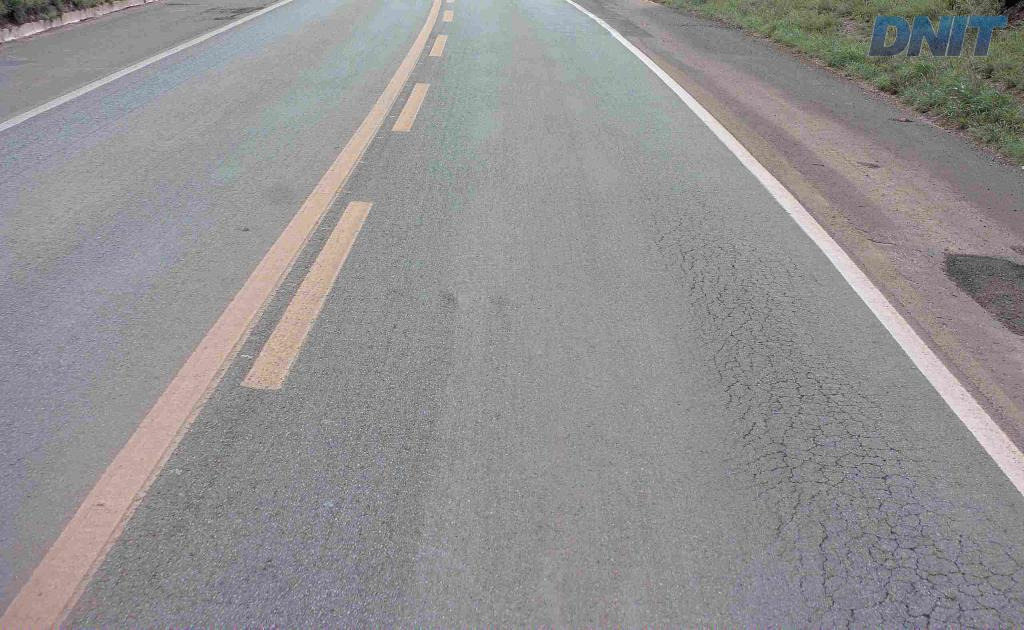crack: (707, 291, 815, 415), (867, 517, 919, 607), (796, 350, 849, 408)
